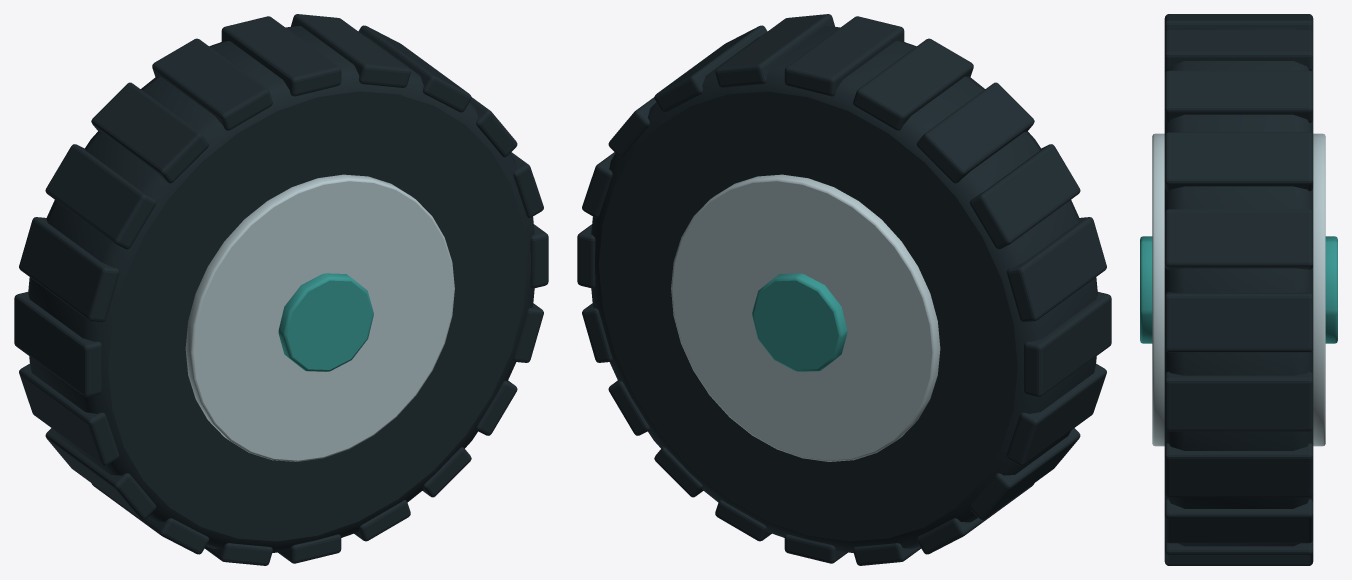
Rendered from rover-wheel.glb.
3 views of the same model, side by side, from view 1: azimuth 30°, elevation 25°; view 2: azimuth 150°, elevation 25°; view 3: azimuth 270°, elevation 25° (orthographic). The views are drawn at different scales.
Visible parts, largest first — view 1: Tire.008, Wheel hub.008, Axle cap.008; view 2: Tire.008, Wheel hub.008, Axle cap.008; view 3: Tire.008, Wheel hub.008, Axle cap.008.
Boxes of the visible parts, x1,y1,x2,y2 form: Tire.008: (14, 14, 548, 565); Wheel hub.008: (185, 174, 454, 461); Axle cap.008: (278, 273, 373, 371); Tire.008: (577, 14, 1111, 565); Wheel hub.008: (671, 174, 940, 461); Axle cap.008: (752, 273, 847, 371); Tire.008: (1164, 14, 1313, 565); Wheel hub.008: (1152, 133, 1325, 446); Axle cap.008: (1140, 236, 1337, 343).
Bounding box in the file's own units: 0.1 × 0.1 × 0.036.
